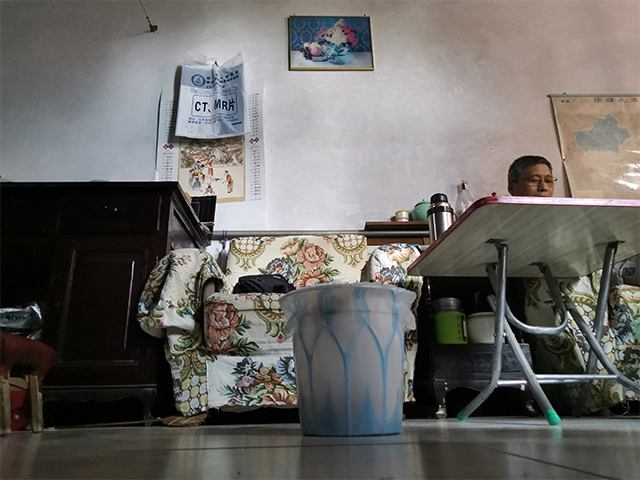cabinet: (1, 177, 213, 428)
sofa: (132, 227, 432, 424)
table: (405, 193, 640, 428)
trashcan: (275, 280, 419, 439)
